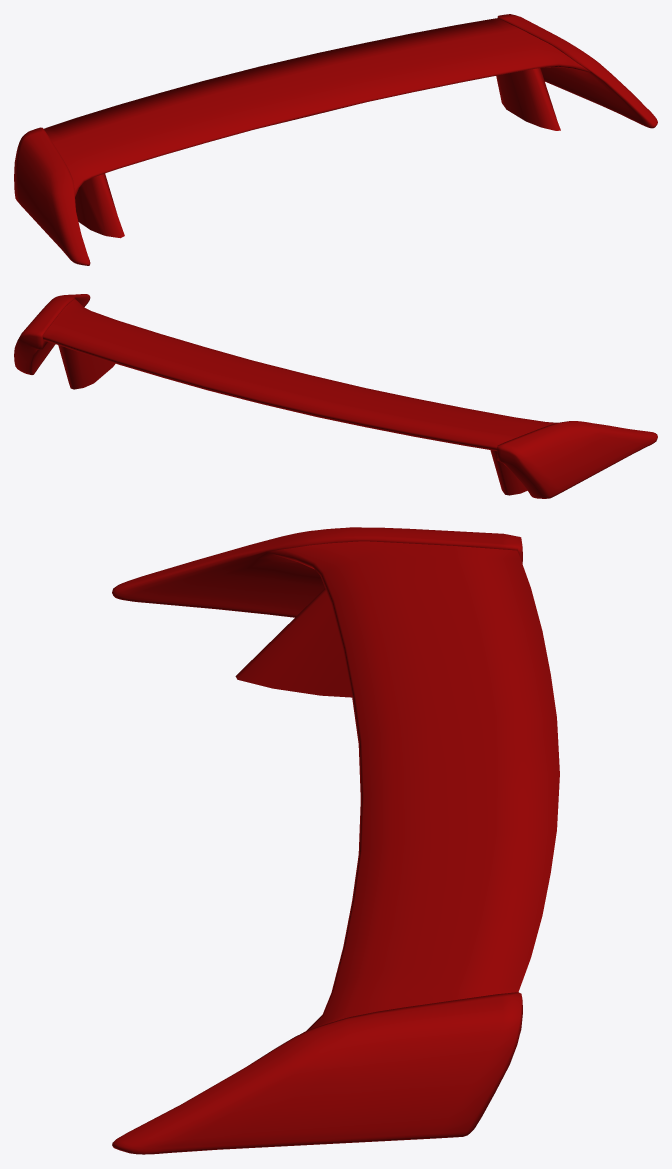
Rendered from spoiler_oemkouki.glb.
The picture shows the model from 3 angles, top to bottom: view 1: azimuth 30°, elevation 25°; view 2: azimuth 150°, elevation 25°; view 3: azimuth 270°, elevation 25°; orthographic projection. The views are drawn at different scales.
Parts seen in each view (by area): view 1: spoiler; view 2: spoiler; view 3: spoiler.
Boxes of the visible parts, x1,y1,x2,y2 form: spoiler: (14,14,657,265); spoiler: (14,294,657,498); spoiler: (112,527,559,1154).
Bounding box in the file's own units: 1.33 × 0.1458 × 0.4445.
